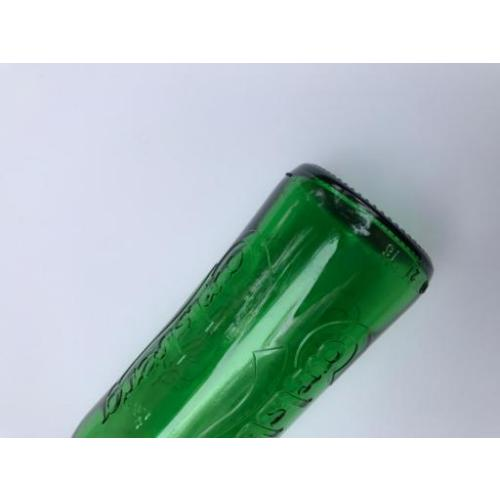glass: (73, 167, 430, 437)
